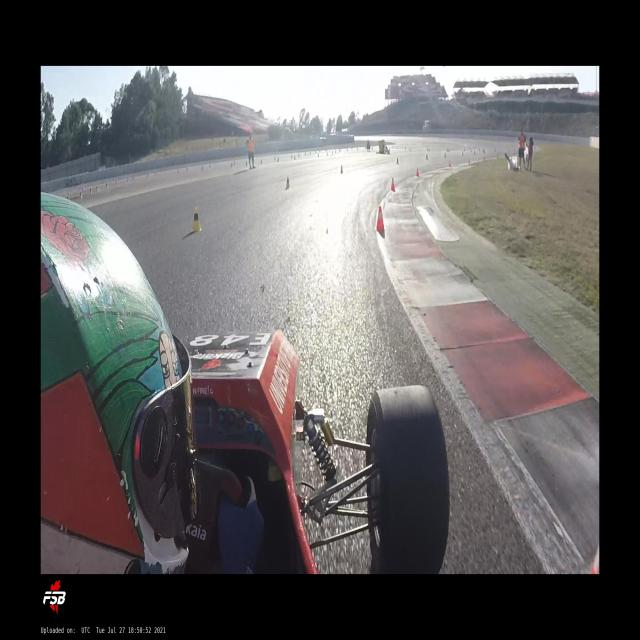orange_cone: (374, 205, 386, 231), (390, 178, 396, 190), (416, 168, 420, 176), (449, 160, 451, 167), (468, 157, 470, 163)
yellow_cone: (192, 207, 202, 232), (286, 176, 290, 188), (78, 190, 82, 199), (340, 164, 343, 174), (396, 157, 399, 165), (95, 185, 98, 192), (90, 186, 92, 194), (426, 153, 428, 159), (106, 182, 108, 188)
